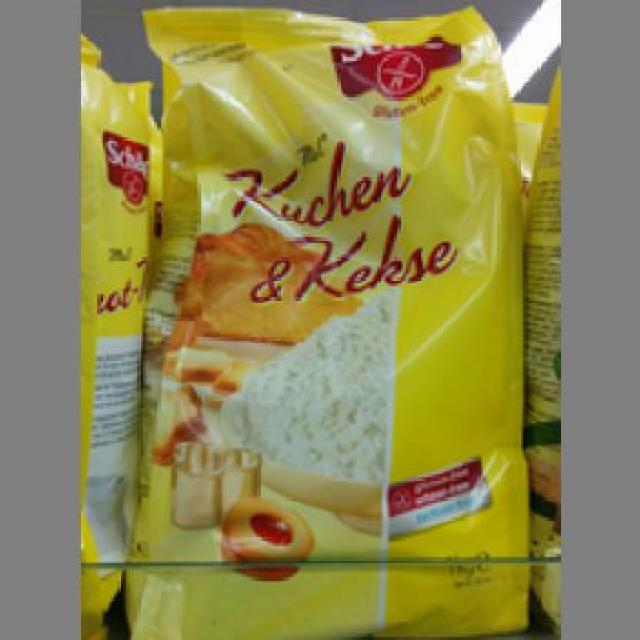Flour: (134, 2, 526, 635)
